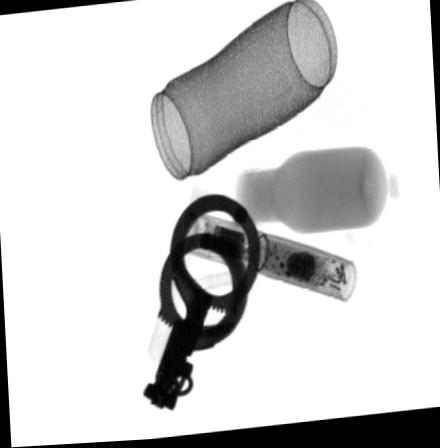Baton: (177, 212, 358, 306)
HandCuffs: (138, 196, 262, 417)
